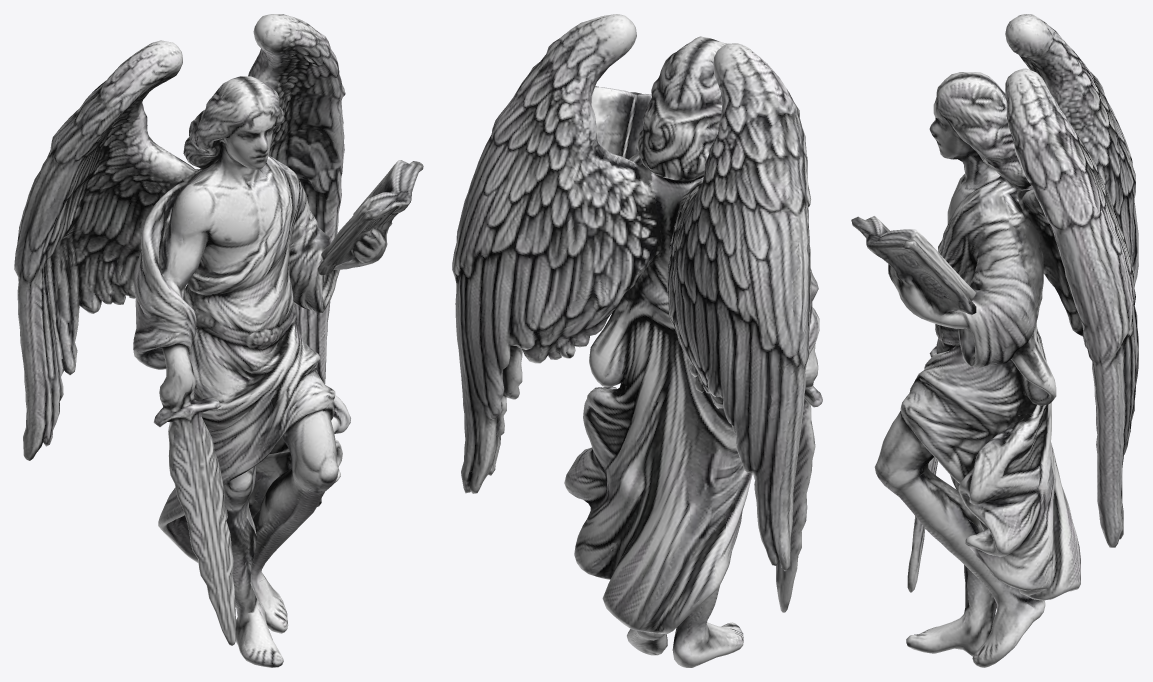
The model's file is Clergy_Angel.glb.
The picture shows the model from 3 angles, left to right: view 1: azimuth 30°, elevation 25°; view 2: azimuth 150°, elevation 25°; view 3: azimuth 270°, elevation 25°; orthographic projection. The views are drawn at different scales.
Bounding box in the file's own units: 1.07 × 1.91 × 0.818.
Materials: 1 (1 with a texture image).
